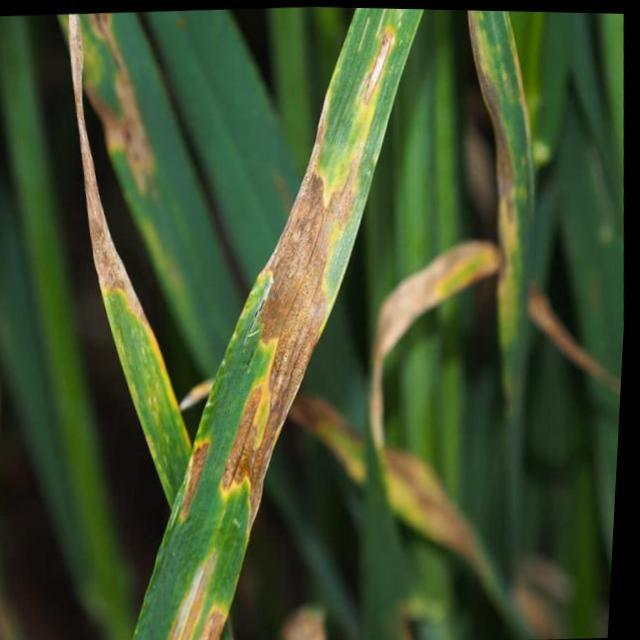Septoria: (137, 5, 426, 639), (68, 13, 197, 509), (469, 7, 542, 408)
